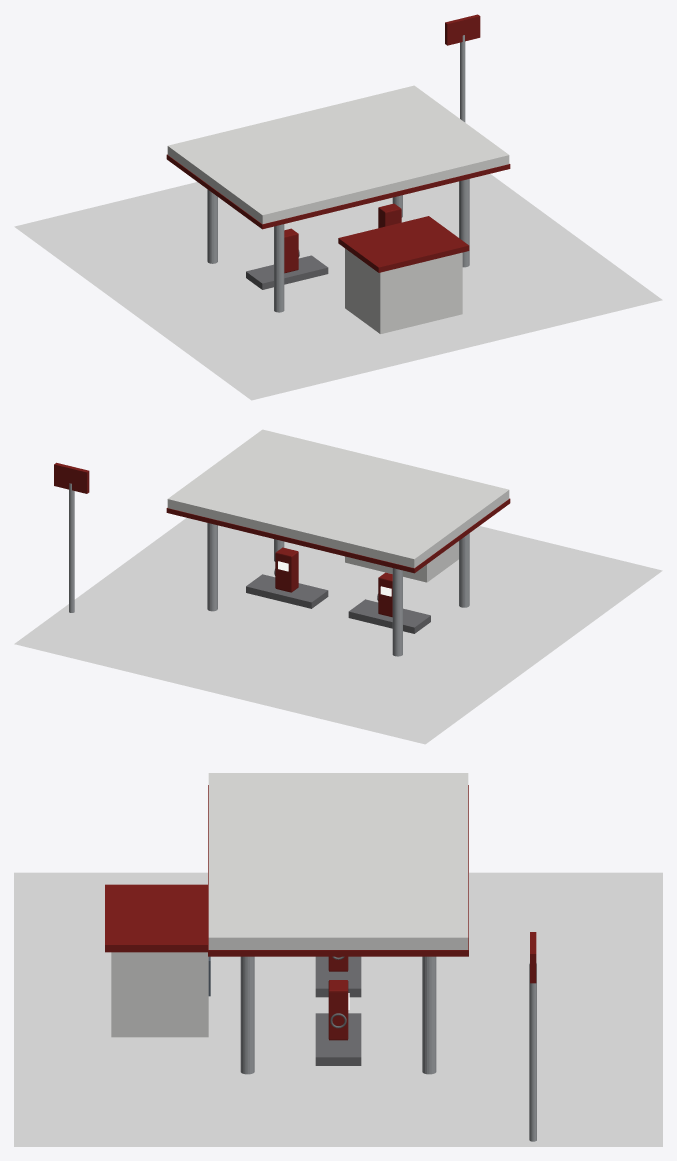
File: gas-station.glb
3 renders of one model, top to bottom at view 1: azimuth 30°, elevation 25°; view 2: azimuth 150°, elevation 25°; view 3: azimuth 270°, elevation 25°, orthographic. The views are drawn at different scales.
Parts seen in each view (by area): view 1: Plane, Cube, Cube.008, Cube.010, Cube.001, Cube.002, Cylinder, Cube.011, Cylinder.002, Cylinder.001, Cube.003; view 2: Plane, Cube, Cube.001, Cube.005, Cube.002, Cube.008, Cylinder.001, Cylinder.003, Cube.006, Cube.011, Cylinder, Cylinder.004 (+1 smaller); view 3: Plane, Cube, Cube.008, Cube.010, Cube.001, Cube.005, Cylinder.002, Cylinder.003, Cube.002, Cylinder.004, Cube.006.
Part boxes in pixels (x1,y1,x2,y2): Plane: [14, 174, 662, 400]; Cube: [167, 85, 509, 224]; Cube.008: [345, 248, 462, 334]; Cube.010: [338, 216, 469, 272]; Cube.001: [166, 154, 510, 229]; Cube.002: [246, 255, 328, 289]; Cylinder: [274, 224, 284, 312]; Cube.011: [445, 14, 480, 45]; Cylinder.002: [459, 179, 469, 267]; Cylinder.001: [207, 189, 217, 263]; Cube.003: [284, 228, 298, 273]; Plane: [14, 518, 662, 744]; Cube: [167, 429, 509, 568]; Cube.001: [166, 498, 510, 573]; Cube.005: [246, 574, 328, 608]; Cube.002: [348, 599, 430, 633]; Cube.008: [345, 541, 458, 582]; Cylinder.001: [392, 568, 402, 656]; Cylinder.003: [207, 523, 217, 611]; Cube.006: [275, 547, 298, 592]; Cube.011: [54, 462, 89, 493]; Cylinder: [459, 533, 469, 607]; Cylinder.004: [69, 483, 74, 612]; Plane: [14, 872, 662, 1146]; Cube: [208, 773, 468, 949]; Cube.008: [111, 952, 208, 1037]; Cube.010: [105, 884, 207, 952]; Cube.001: [208, 785, 468, 956]; Cube.005: [315, 1013, 361, 1065]; Cylinder.002: [240, 956, 254, 1074]; Cylinder.003: [422, 956, 436, 1074]; Cube.002: [315, 956, 361, 997]; Cylinder.004: [529, 963, 536, 1141]; Cube.006: [328, 980, 348, 1040].
Bounding box in the file's own units: 20.3 × 6.7 × 20.
